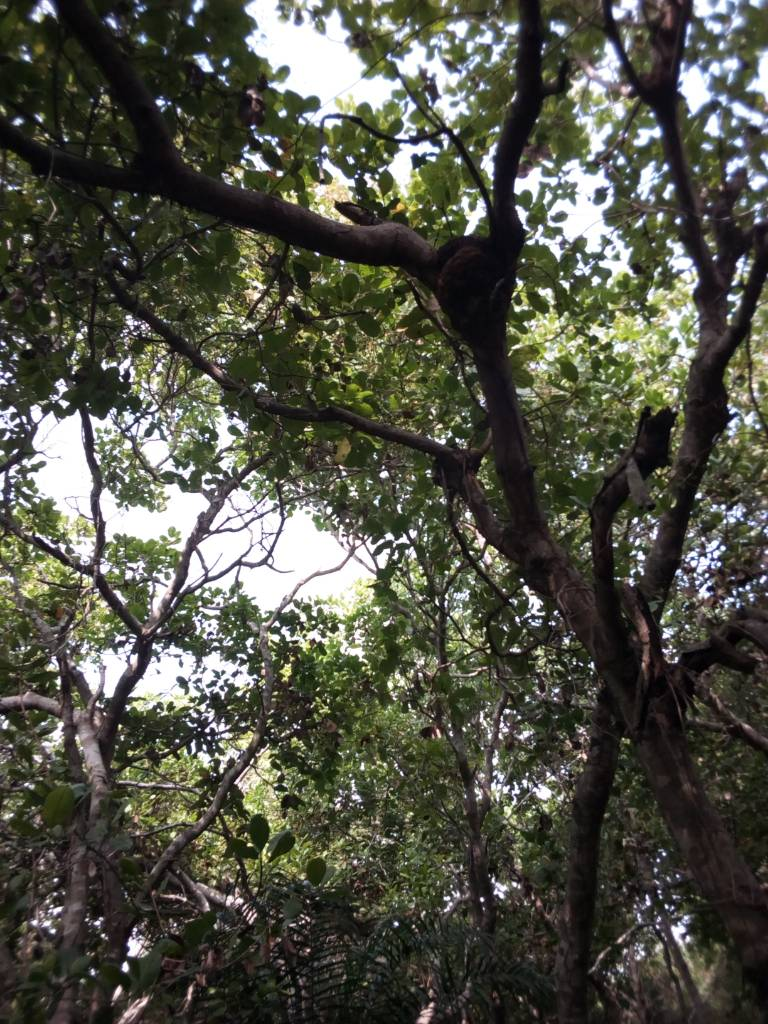Termites: (654, 713, 755, 921)
